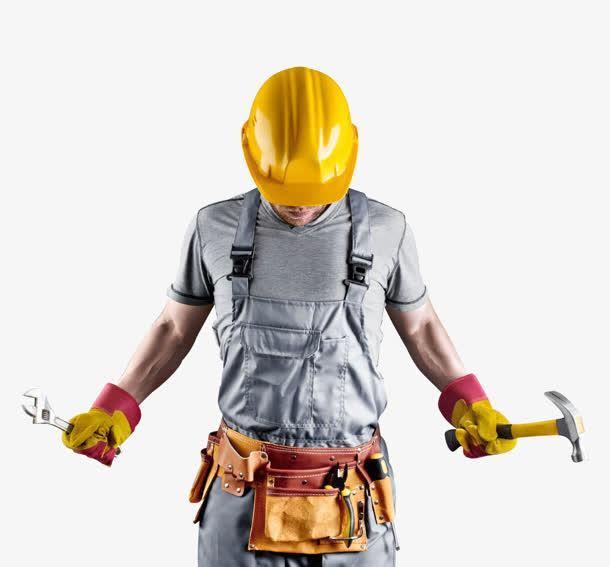helmet: (240, 67, 362, 208)
